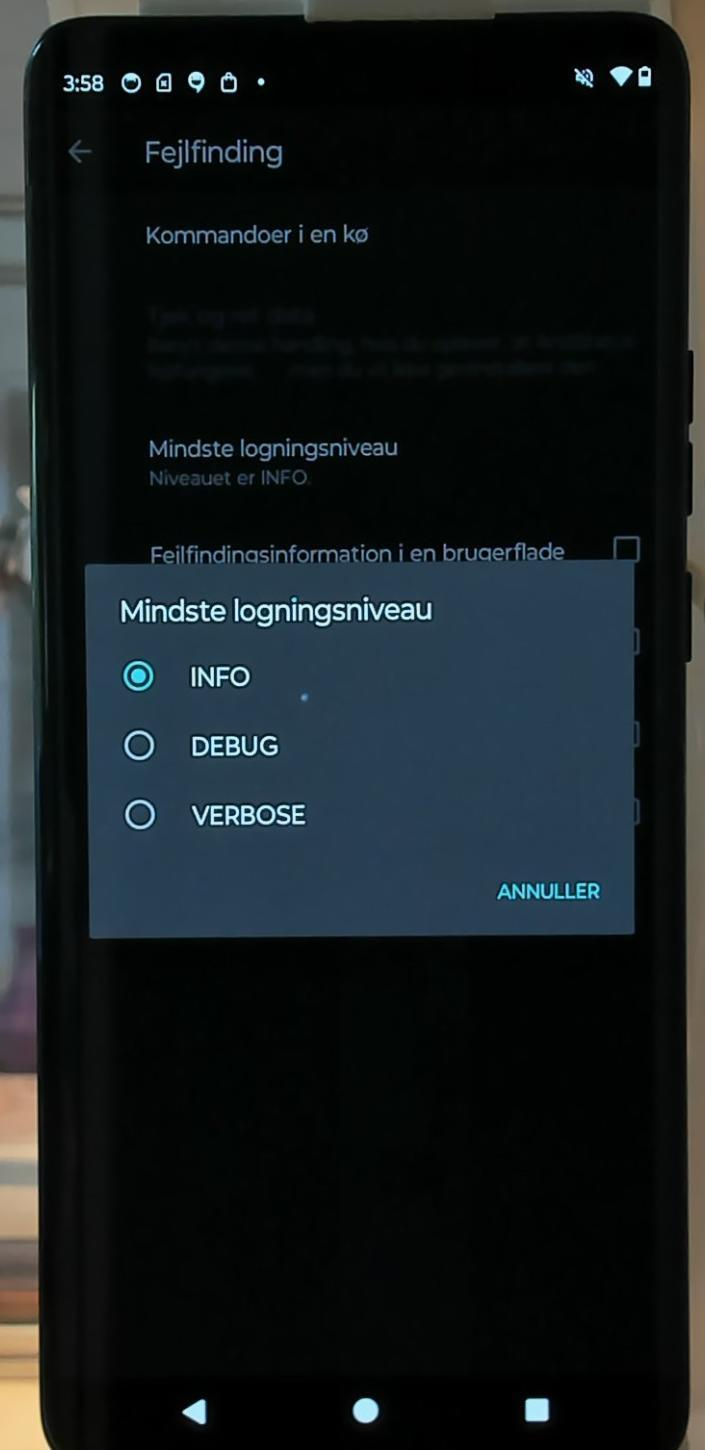RadioButton: (118, 791, 324, 843), (113, 647, 275, 704), (117, 717, 287, 770)
